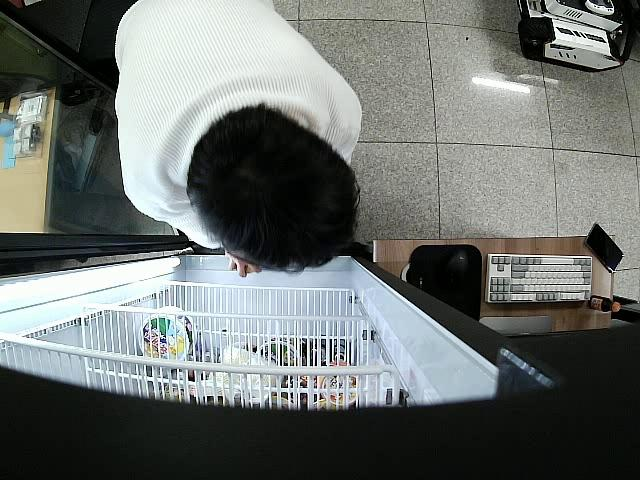00_hand: (222, 250, 264, 280)
